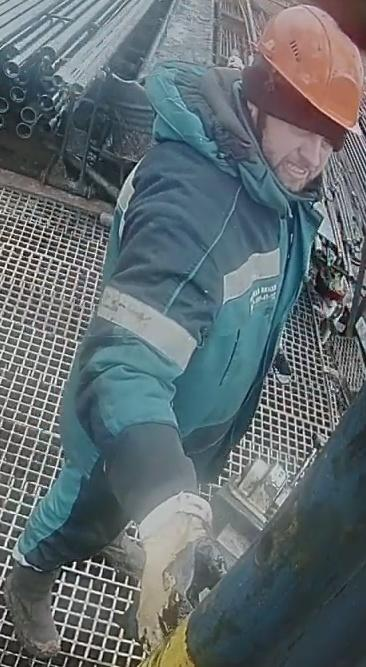gloves: (134, 489, 227, 652)
helmet: (253, 3, 363, 145)
vest: (86, 135, 323, 486)
